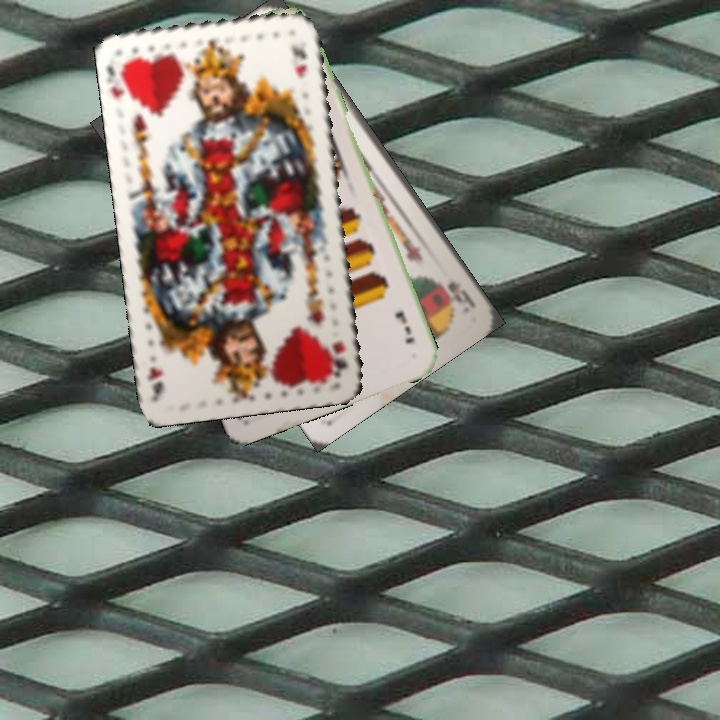E7: (390, 307, 417, 347)
HK: (103, 57, 135, 106), (325, 335, 350, 378)
SK: (435, 277, 479, 311)
